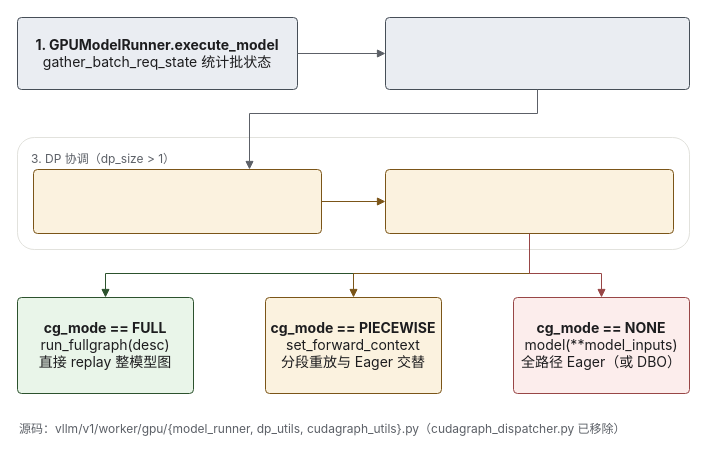
The diagram is 707 pixels wide and 459 high, and some of its shapes have lost their labels. Each missing label, with the centre of its shape:
2. CudaGraphManager.dispatch 本地初筛桶，产出 desired_batch_desc: (x=537, y=53)
7 行 int32 cpu_all_reduce_ [tok, mode, u, max_q, ub, req, skip]: (x=177, y=201)
全组共识重分派（re-dispatch） min(cg_mode) · max(tok) · u 异则清空: (x=529, y=201)
